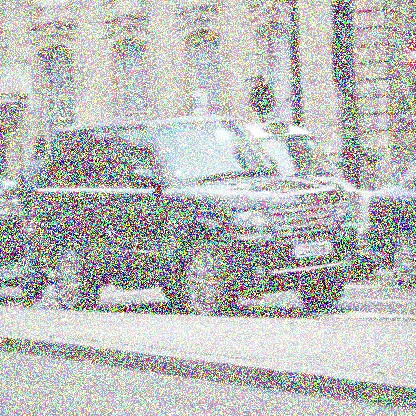Vehicle: (32, 116, 357, 316)
